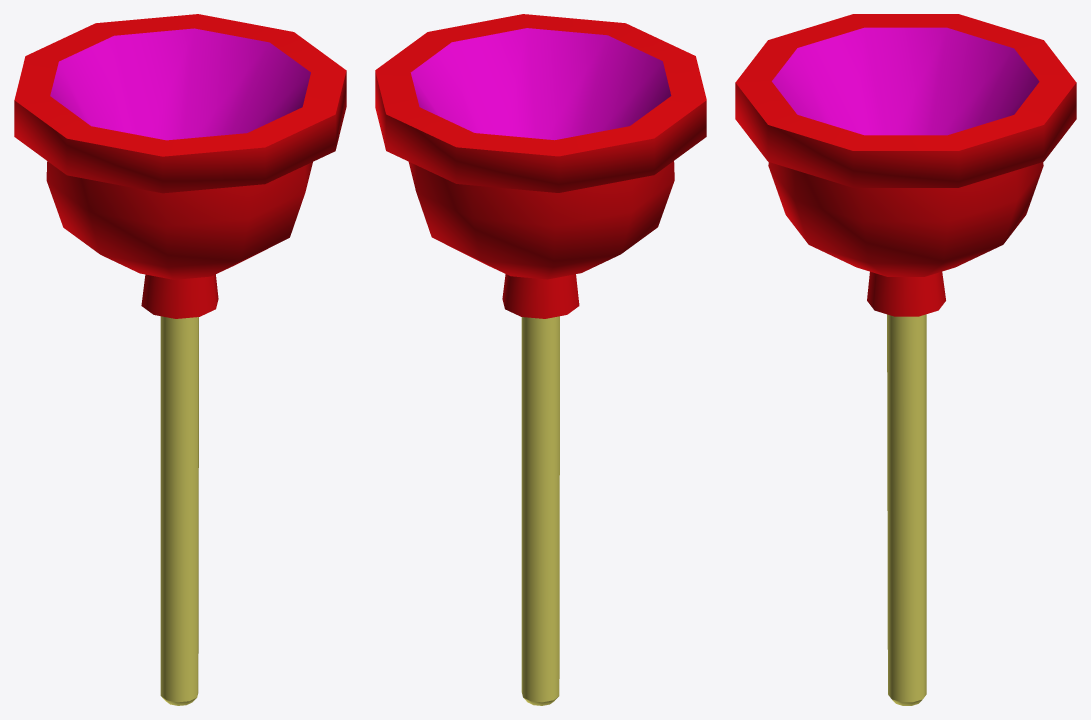
The model's file is Plunger.fbx.
3 renders of one model, left to right at view 1: azimuth 30°, elevation 25°; view 2: azimuth 150°, elevation 25°; view 3: azimuth 270°, elevation 25°, orthographic.
Visible parts, largest first — view 1: Plunger; view 2: Plunger; view 3: Plunger.
Boxes of the visible parts, x1,y1,x2,y2 form: Plunger: (14,14,346,705); Plunger: (375,14,706,705); Plunger: (735,14,1076,705).
Size of the model in its own units: 1.05 by 2.21 by 1.1.
